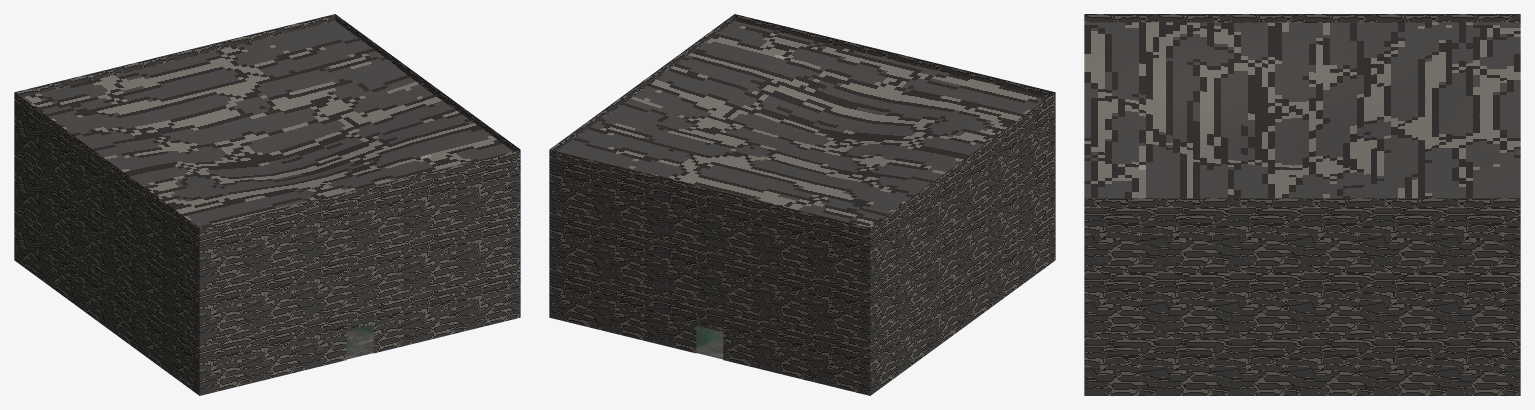
The model's file is TreeRoom.fbx.
3 views of the same model, side by side, from view 1: azimuth 30°, elevation 25°; view 2: azimuth 150°, elevation 25°; view 3: azimuth 270°, elevation 25° (orthographic). The views are drawn at different scales.
Parts seen in each view (by area): view 1: GrassyGround.001, StoneyWall.068, StoneyWall.038, StoneyWall.062, StoneyWall.066, StoneyWall.018, StoneyWall.042, StoneyWall.019, StoneyWall.041, StoneyWall.043, StoneyWall.065, StoneyWall.067 (+27 smaller); view 2: GrassyGround.001, StoneyWall.004, StoneyWall.025, StoneyWall.049, StoneyWall.051, StoneyWall.005, StoneyWall.027, StoneyWall.008, StoneyWall.026, StoneyWall.030, StoneyWall.050, StoneyWall.054 (+27 smaller); view 3: GrassyGround.001, StoneyWall.056, StoneyWall.059, StoneyWall.057, StoneyWall.058, StoneyWall.060, StoneyWall.061, StoneyWall.010, StoneyWall.013, StoneyWall.032, StoneyWall.035, StoneyWall.011 (+13 smaller).
Boxes of the visible parts, <box> form: GrassyGround.001: <box>22,21,512,227</box>; StoneyWall.068: <box>306,288,413,369</box>; StoneyWall.038: <box>306,245,360,313</box>; StoneyWall.062: <box>306,189,360,257</box>; StoneyWall.066: <box>413,163,467,231</box>; StoneyWall.018: <box>413,275,467,343</box>; StoneyWall.042: <box>413,219,467,287</box>; StoneyWall.019: <box>467,261,520,330</box>; StoneyWall.041: <box>360,232,413,300</box>; StoneyWall.043: <box>467,205,520,274</box>; StoneyWall.065: <box>360,176,413,244</box>; StoneyWall.067: <box>467,149,520,218</box>; GrassyGround.001: <box>557,21,1047,227</box>; StoneyWall.004: <box>656,288,763,369</box>; StoneyWall.025: <box>709,245,763,313</box>; StoneyWall.049: <box>709,189,763,257</box>; StoneyWall.051: <box>602,163,656,231</box>; StoneyWall.005: <box>602,275,656,343</box>; StoneyWall.027: <box>602,219,656,287</box>; StoneyWall.008: <box>549,261,602,330</box>; StoneyWall.026: <box>656,232,709,300</box>; StoneyWall.030: <box>549,205,602,274</box>; StoneyWall.050: <box>656,176,709,244</box>; StoneyWall.054: <box>549,149,602,218</box>; GrassyGround.001: <box>1084,22,1520,198</box>; StoneyWall.056: <box>1229,198,1302,264</box>; StoneyWall.059: <box>1302,198,1375,264</box>; StoneyWall.057: <box>1157,198,1229,264</box>; StoneyWall.058: <box>1084,198,1156,264</box>; StoneyWall.060: <box>1375,198,1447,264</box>; StoneyWall.061: <box>1448,198,1520,264</box>; StoneyWall.010: <box>1229,330,1302,395</box>; StoneyWall.013: <box>1302,330,1375,395</box>; StoneyWall.032: <box>1229,264,1302,329</box>; StoneyWall.035: <box>1302,264,1375,329</box>; StoneyWall.011: <box>1157,330,1229,395</box>.
Size of the model in its own units: 4800 by 2416 by 4800.
